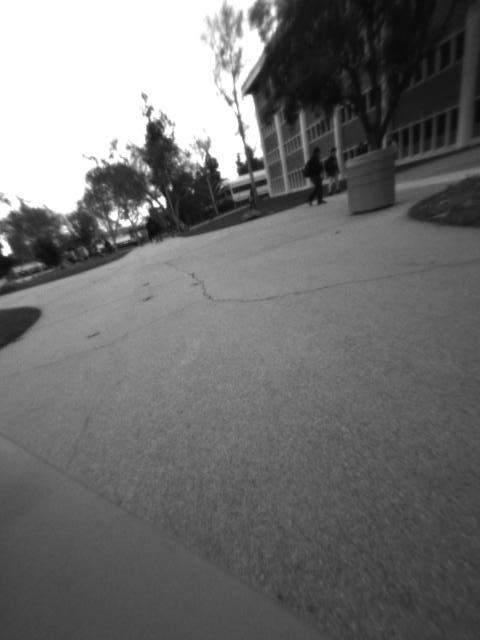trashcan: (345, 145, 400, 218)
